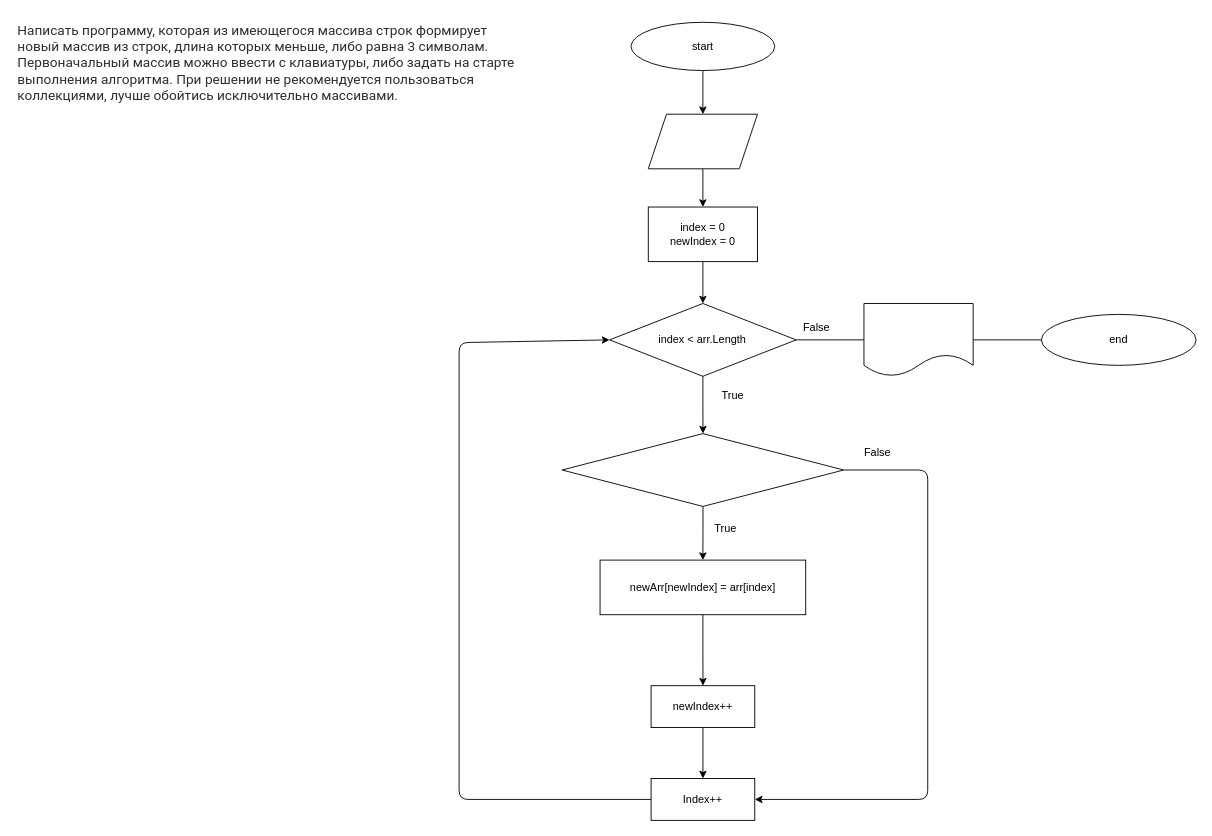
Image size: 1212x836. Some labels were removed from this diagram. Here are the shapes that lost their labels. From the top down, the box of each, then its label:
(647, 113, 757, 169): arr []
(863, 303, 973, 376): newArr[]
(561, 433, 844, 506): arr[index].Length <= 3
